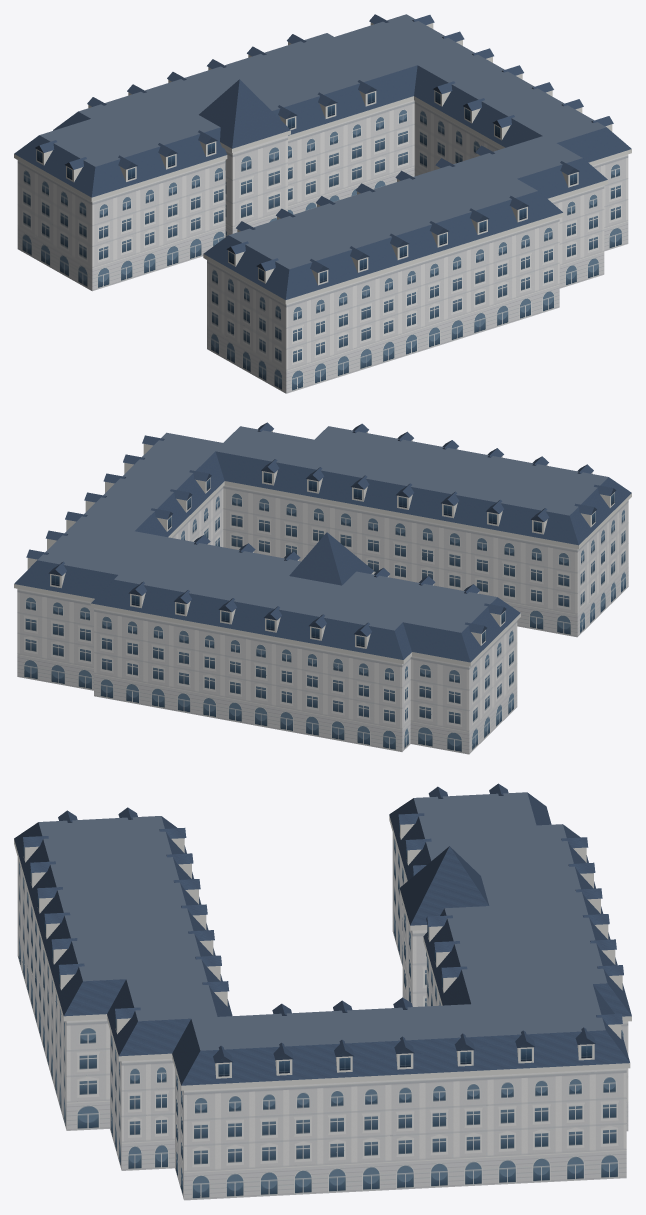
Rendered from xueke1.glb.
The picture shows the model from 3 angles, top to bottom: view 1: azimuth 30°, elevation 25°; view 2: azimuth 150°, elevation 25°; view 3: azimuth 270°, elevation 25°; orthographic projection. The views are drawn at different scales.
Parts seen in each view (by area): view 1: 学科1号楼_主体, 学科1号楼_屋顶; view 2: 学科1号楼_主体, 学科1号楼_屋顶; view 3: 学科1号楼_屋顶, 学科1号楼_主体.
Part boxes in pixels (x1,y1,x2,y2): 学科1号楼_主体: (14,96,631,393); 学科1号楼_屋顶: (14,14,631,299); 学科1号楼_主体: (14,481,631,754); 学科1号楼_屋顶: (14,422,631,662); 学科1号楼_屋顶: (14,783,631,1085); 学科1号楼_主体: (14,816,631,1200).
Size of the model in its own units: 70.55 by 22.1 by 65.99.
Materials: 5 (3 with a texture image).
